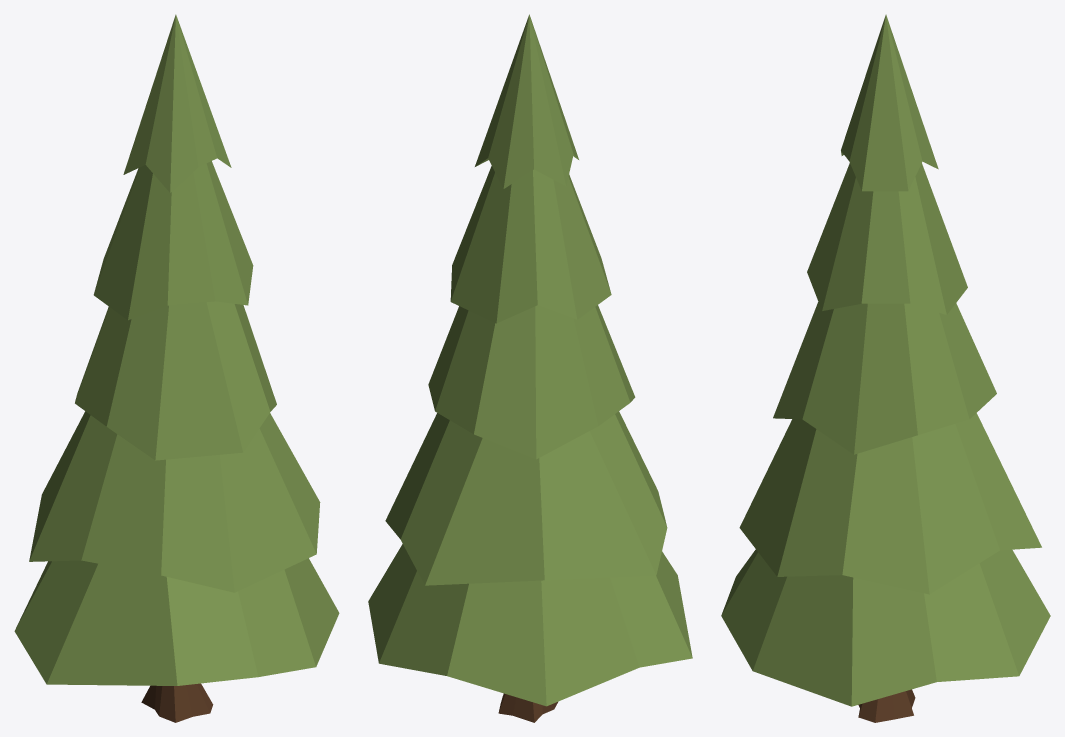
Rendered from tree1.fbx.
3 renders of one model, left to right at view 1: azimuth 30°, elevation 25°; view 2: azimuth 150°, elevation 25°; view 3: azimuth 270°, elevation 25°, orthographic.
Parts seen in each view (by area): view 1: Pinetree; view 2: Pinetree; view 3: Pinetree.
Part boxes in pixels (left/top/right/bottom): Pinetree: left=14, top=14, right=339, bottom=722; Pinetree: left=368, top=14, right=692, bottom=722; Pinetree: left=721, top=14, right=1050, bottom=722.
Size of the model in its own units: 469 by 1062 by 457.
